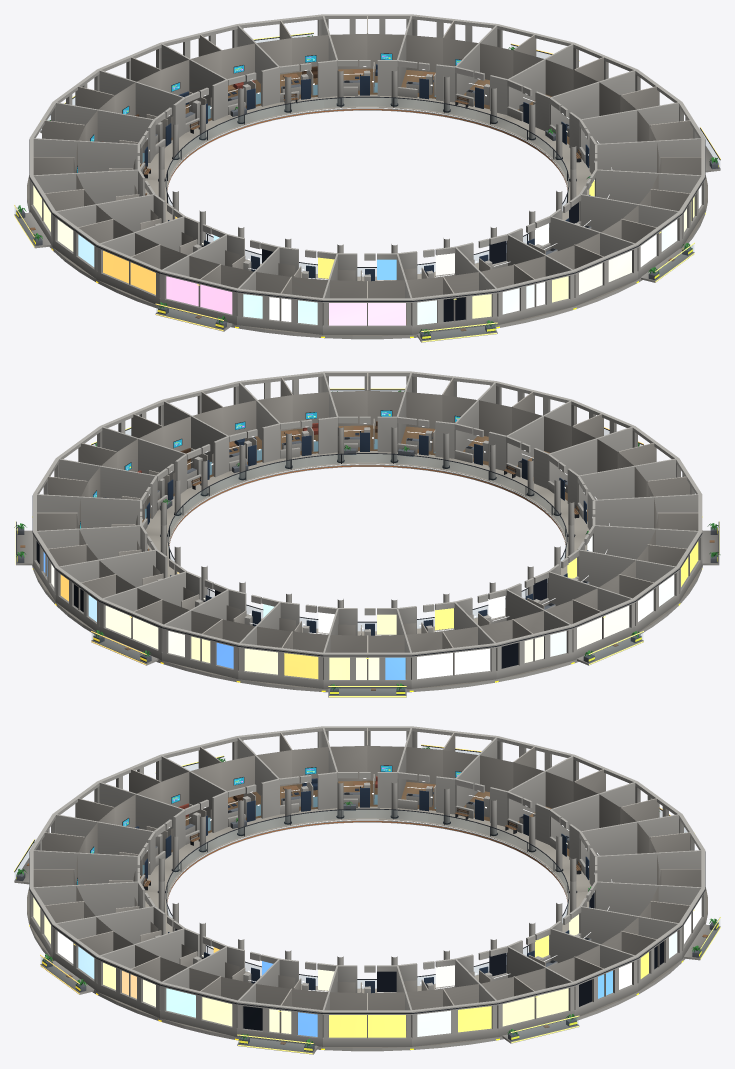
Rendered from dome_floor4.glb.
3 renders of one model, top to bottom at view 1: azimuth 30°, elevation 25°; view 2: azimuth 150°, elevation 25°; view 3: azimuth 270°, elevation 25°, orthographic.
Parts seen in each view (by area): view 1: Struct_4, Shell_4, Unit_4_0, Unit_4_23, Unit_4_2, Unit_4_1, Unit_4_3, Unit_4_10, Lamps_4, Unit_4_8, Unit_4_9, Unit_4_11 (+15 smaller); view 2: Struct_4, Shell_4, Unit_4_15, Unit_4_16, Unit_4_17, Unit_4_18, Unit_4_19, Lamps_4, Unit_4_2, Unit_4_0, Unit_4_1, Unit_4_3 (+15 smaller); view 3: Struct_4, Shell_4, Unit_4_8, Unit_4_7, Unit_4_9, Unit_4_10, Unit_4_11, Unit_4_18, Lamps_4, Unit_4_16, Unit_4_17, Unit_4_6 (+15 smaller).
Boxes of the visible parts, x1,y1,x2,y2 form: Struct_4: (14, 14, 720, 342); Shell_4: (14, 32, 720, 342); Unit_4_0: (565, 82, 678, 153); Unit_4_23: (589, 110, 701, 172); Unit_4_2: (464, 34, 573, 109); Unit_4_1: (518, 56, 635, 127); Unit_4_3: (401, 20, 497, 98); Unit_4_10: (33, 138, 138, 175); Lamps_4: (77, 53, 612, 280); Unit_4_8: (75, 70, 184, 144); Unit_4_9: (42, 102, 154, 166); Unit_4_11: (33, 169, 139, 220); Struct_4: (16, 371, 719, 697); Shell_4: (14, 388, 720, 697); Unit_4_15: (587, 467, 698, 528); Unit_4_16: (563, 439, 675, 509); Unit_4_17: (516, 413, 632, 483); Unit_4_18: (463, 392, 571, 465); Unit_4_19: (401, 377, 495, 455); Lamps_4: (80, 410, 609, 635); Unit_4_2: (34, 494, 140, 530); Unit_4_0: (78, 427, 185, 500); Unit_4_1: (46, 458, 156, 522); Unit_4_3: (37, 525, 141, 576); Struct_4: (14, 726, 720, 1054); Shell_4: (14, 744, 720, 1054); Unit_4_8: (565, 794, 678, 865); Unit_4_7: (589, 822, 701, 884); Unit_4_9: (518, 769, 635, 839); Unit_4_10: (464, 747, 573, 821); Unit_4_11: (401, 732, 497, 810); Unit_4_18: (33, 850, 138, 887); Lamps_4: (77, 765, 612, 992); Unit_4_16: (75, 782, 184, 856); Unit_4_17: (42, 814, 153, 878); Unit_4_6: (596, 855, 701, 915).
Size of the model in its own units: 70.51 by 4.21 by 70.51.
